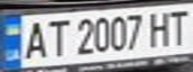0: (90, 14, 112, 54), (109, 12, 130, 52)
2: (72, 15, 96, 56)
7: (124, 11, 148, 50)
A: (18, 18, 51, 61)
H: (145, 8, 175, 47)
T: (163, 7, 193, 46), (42, 17, 69, 59)
